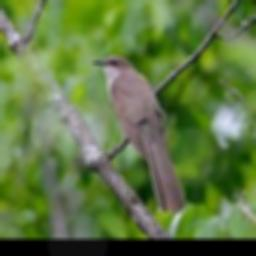Cuckoo: (91, 55, 185, 213)
